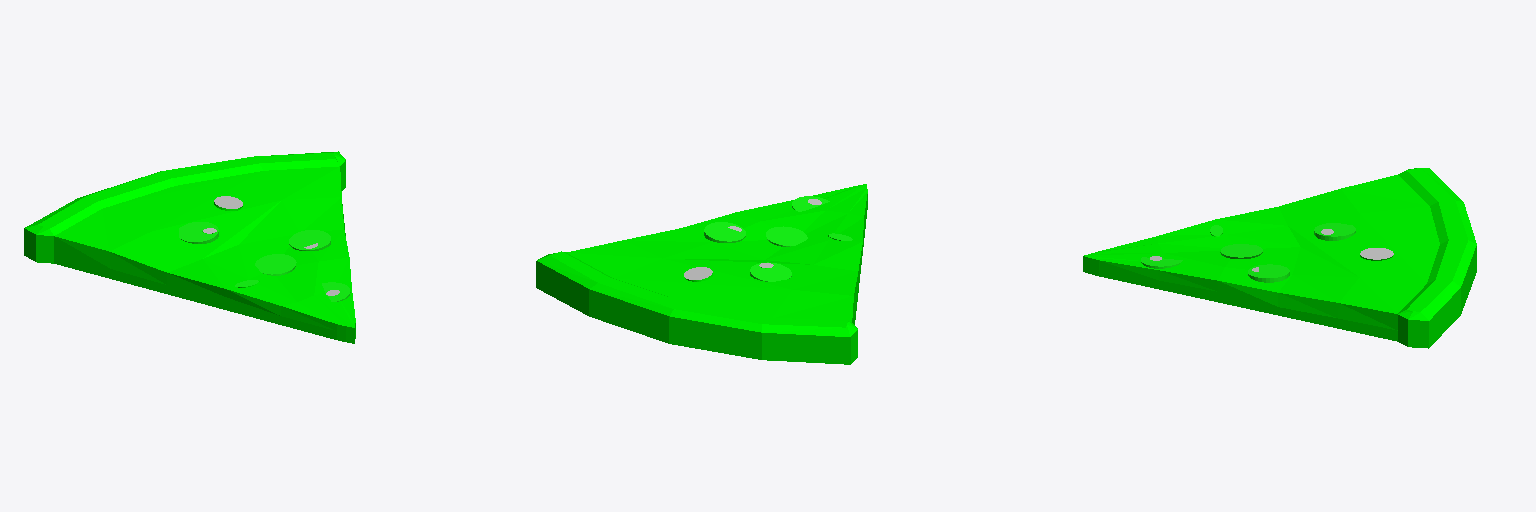
The model's file is GreenSlice.obj.
3 renders of one model, left to right at view 1: azimuth 30°, elevation 25°; view 2: azimuth 150°, elevation 25°; view 3: azimuth 270°, elevation 25°, orthographic.
Visible parts, largest first — view 1: Pizza_Slice_Cube.003; view 2: Pizza_Slice_Cube.003; view 3: Pizza_Slice_Cube.003.
Part boxes in pixels (x1,y1,x2,y2): Pizza_Slice_Cube.003: (24,151,355,343); Pizza_Slice_Cube.003: (536,184,867,364); Pizza_Slice_Cube.003: (1083,168,1476,348).
Bounding box in the file's own units: 1.07 × 0.1036 × 1.16.